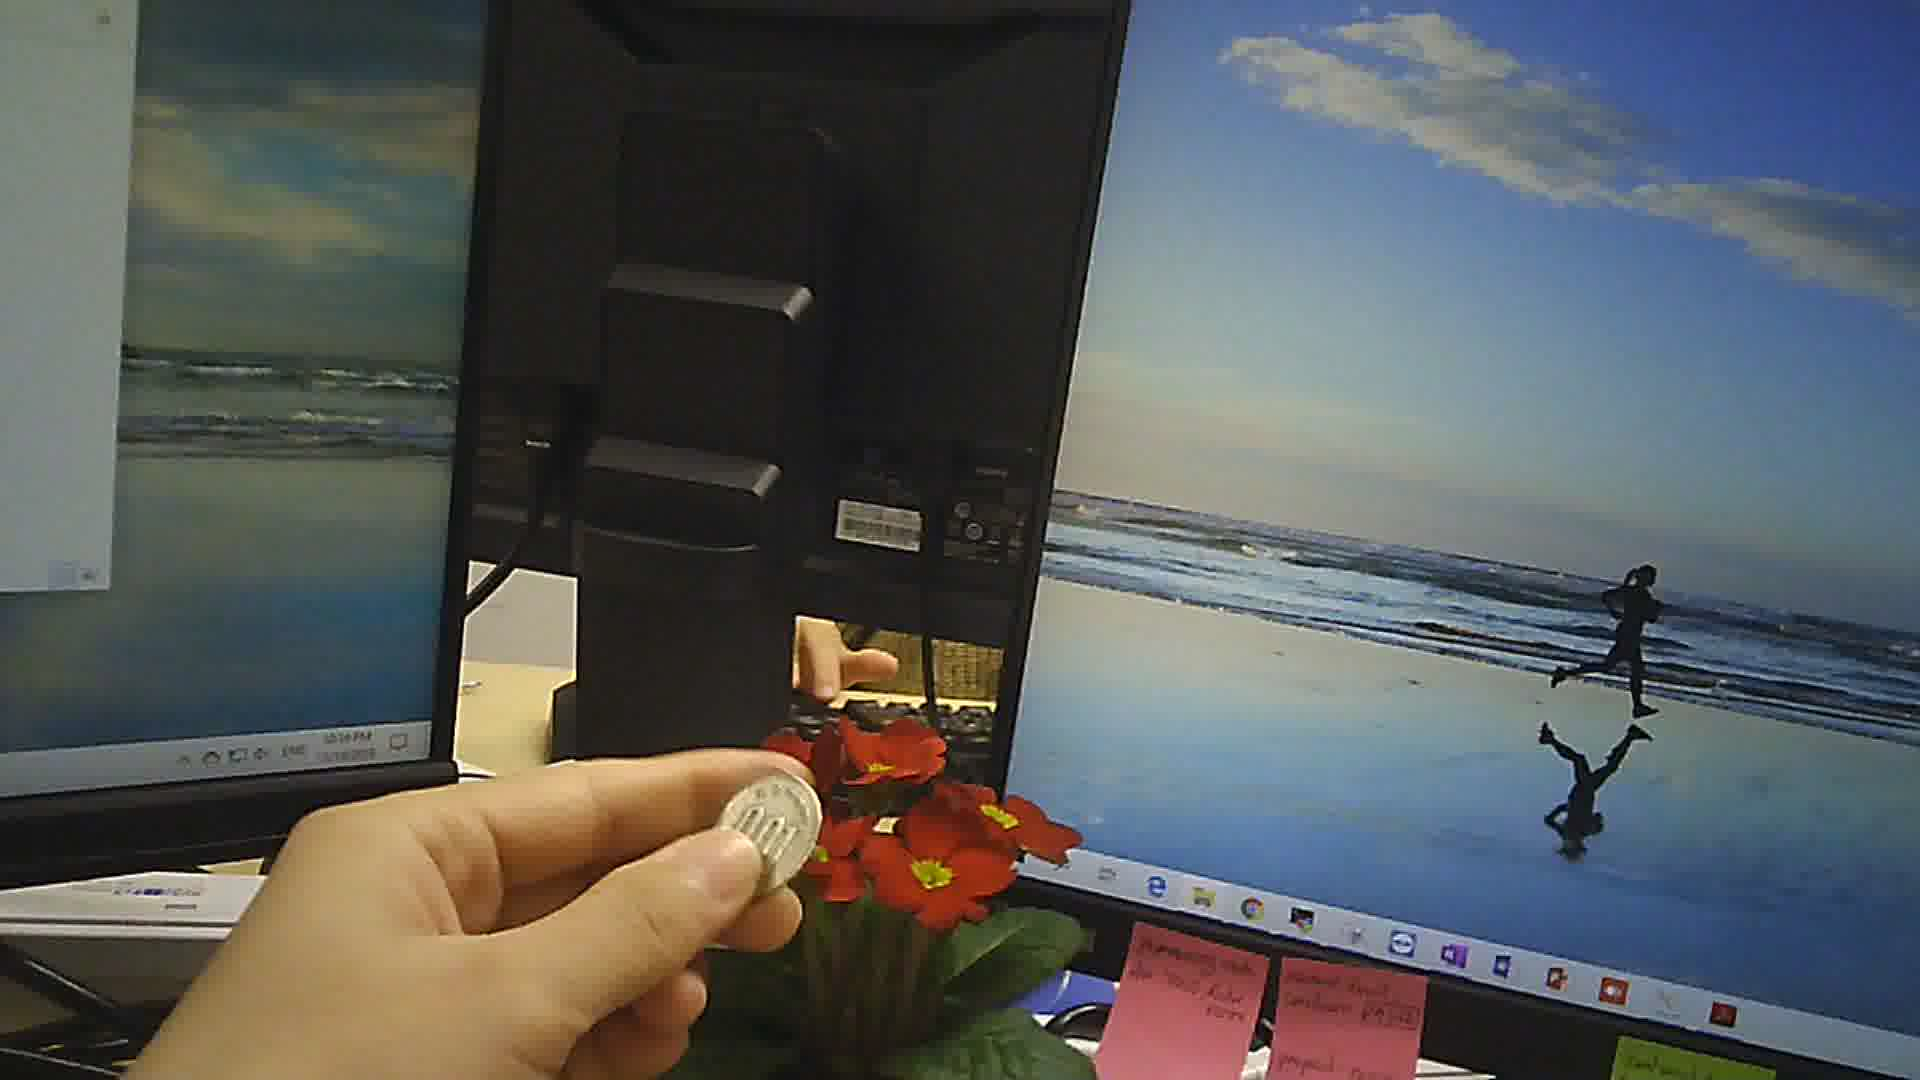100 Yen: (709, 773, 824, 893)
